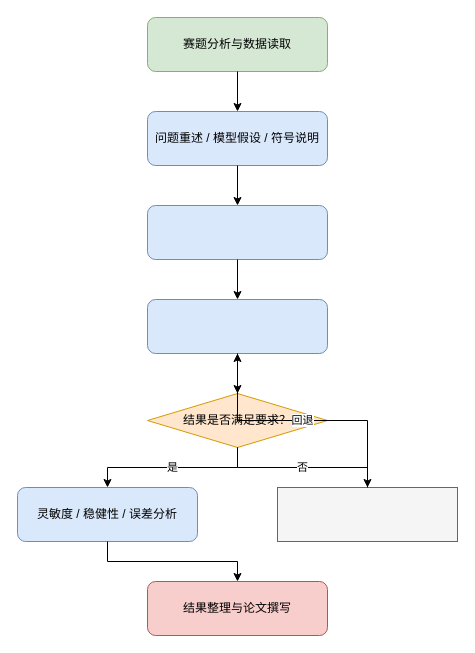
Some shapes in this 475 by 653 pixel diagram are drawn without their labels. The centre of each missing label's shape, as x and y in pixels:
建模与公式推导（机理/优化）: (237,232)
求解：算法设计与编程仿真: (237,326)
调整假设 / 参数 / 范式: (367,514)
